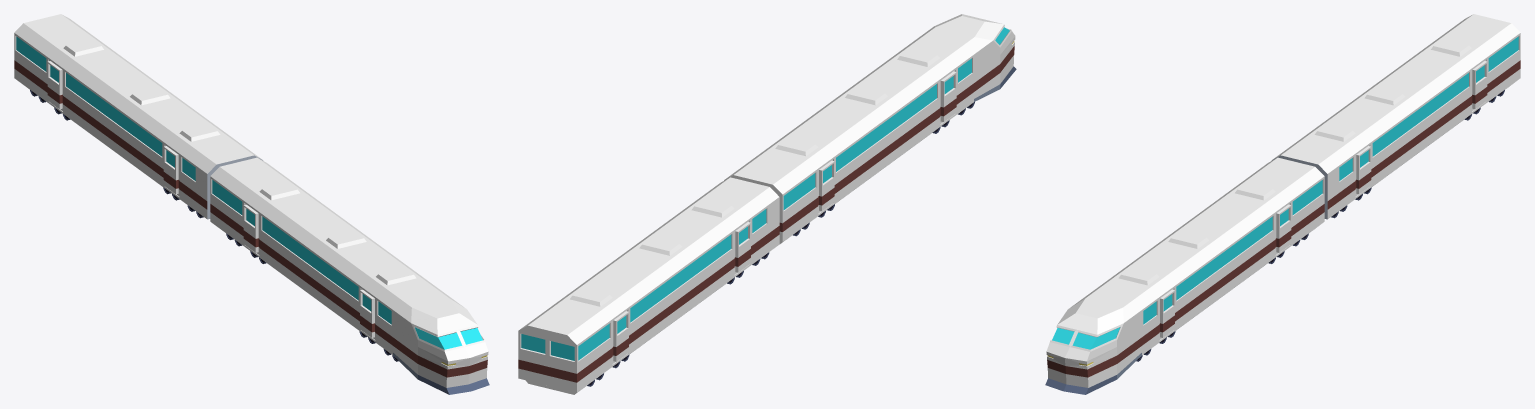
File: train1.fbx
3 renders of one model, left to right at view 1: azimuth 30°, elevation 25°; view 2: azimuth 150°, elevation 25°; view 3: azimuth 330°, elevation 25°, orthographic. The views are drawn at different scales.
Visible parts, largest first — view 1: Train-1; view 2: Train-1; view 3: Train-1.
Part boxes in pixels (left/top/right/bottom): Train-1: left=14, top=14, right=489, bottom=394; Train-1: left=518, top=14, right=1016, bottom=394; Train-1: left=1045, top=14, right=1520, bottom=394.
Bounding box in the file's own units: 2.15 × 2.11 × 26.52.
